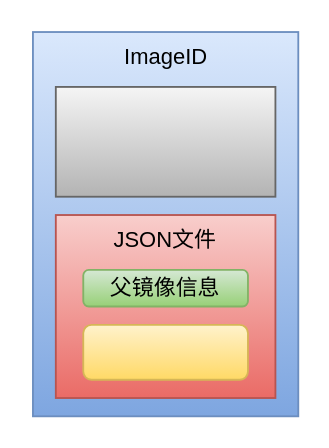
Some shapes in this 329 by 448 pixel diagram are drawn without their labels. The box of each missing label's shape, as (x1, y1, x2, y2) in pixels:
在父镜像上做的操作: (81, 323, 248, 380)
文件系统: (54, 85, 275, 197)
